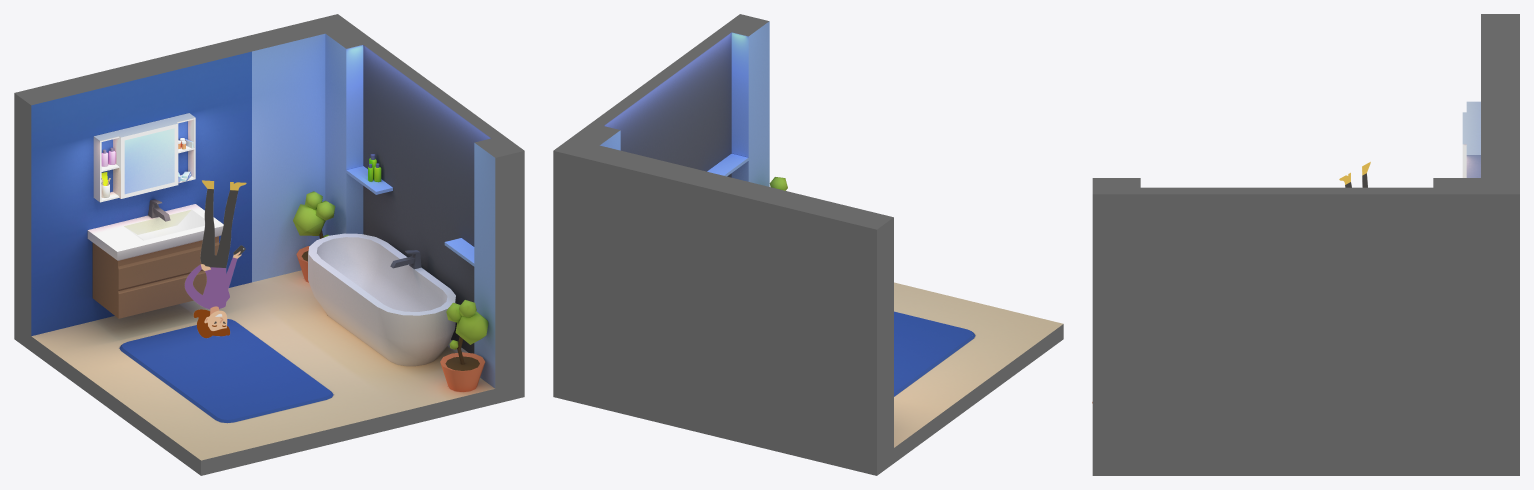
Rendered from SBRO_Rooms_GEO_Bathroom.glb.
3 views of the same model, side by side, from view 1: azimuth 30°, elevation 25°; view 2: azimuth 150°, elevation 25°; view 3: azimuth 270°, elevation 25° (orthographic). The views are drawn at different scales.
Visible parts, largest first — view 1: Plane, Plane.002, Plane.005, Plane.003, Plane.004, Bathroom_Character, Plane.006, Plane.001; view 2: Plane, Plane.005; view 3: Plane, Plane.004.
Boxes of the visible parts, x1,y1,x2,y2 form: Plane: (14, 14, 524, 475); Plane.002: (308, 233, 455, 366); Plane.005: (119, 319, 333, 422); Plane.003: (87, 199, 223, 318); Plane.004: (93, 113, 195, 202); Bathroom_Character: (184, 180, 246, 338); Plane.006: (440, 300, 488, 391); Plane.001: (293, 191, 335, 282); Plane: (553, 14, 1063, 475); Plane.005: (894, 311, 975, 396); Plane: (1092, 14, 1519, 475); Plane.004: (1462, 101, 1480, 177).
Size of the model in its own units: 4.4 by 3.2 by 4.41.
4 materials, 3 textured.
